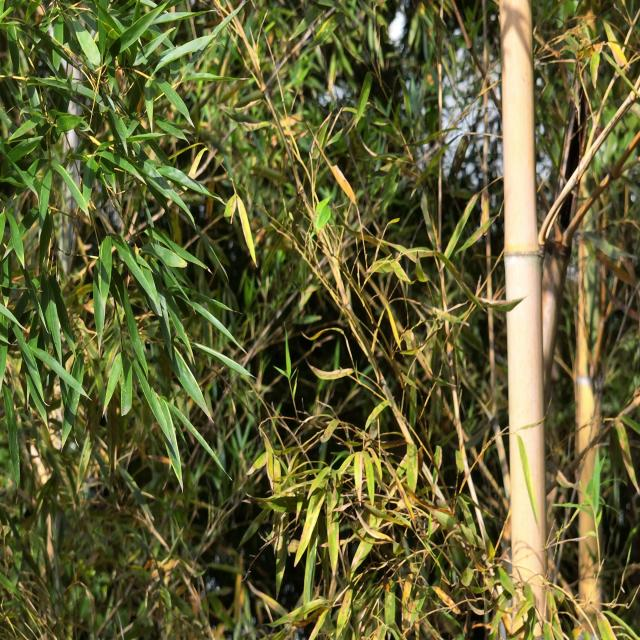Bamboo-shoots: (500, 0, 548, 640)
